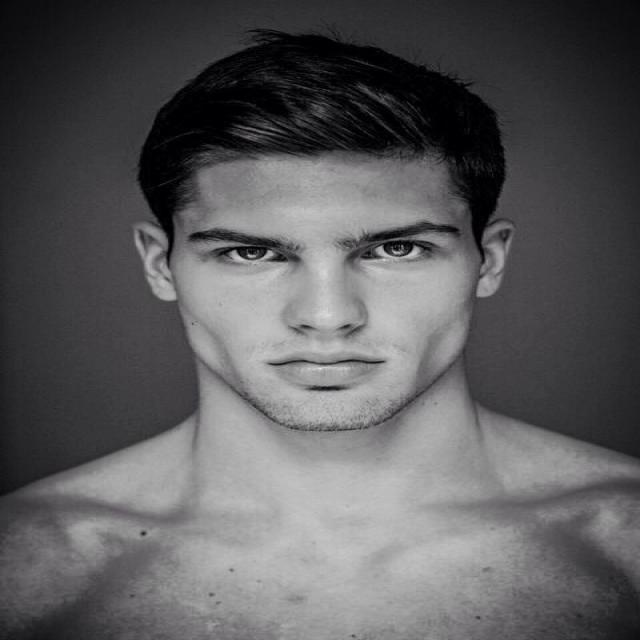earlobe: (131, 220, 180, 303), (475, 218, 517, 299)
